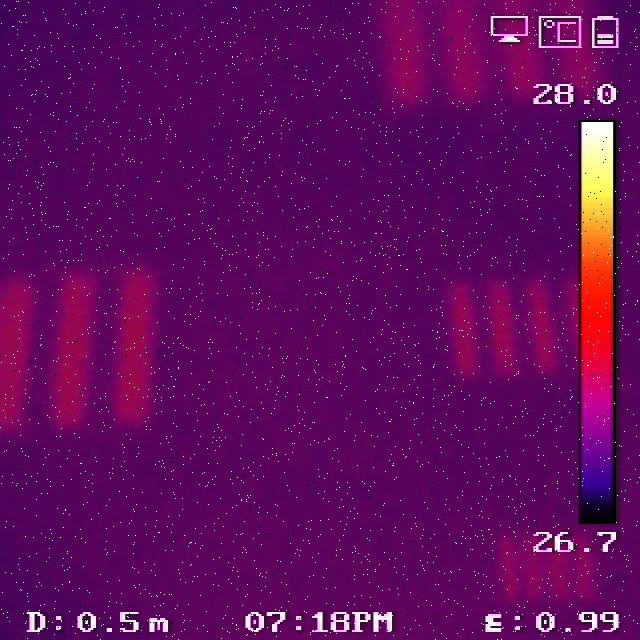Distinguishable 4-bar target: (0, 266, 163, 436), (376, 9, 604, 109), (449, 278, 599, 377)
threshold 4-bar target: (495, 536, 597, 600)
